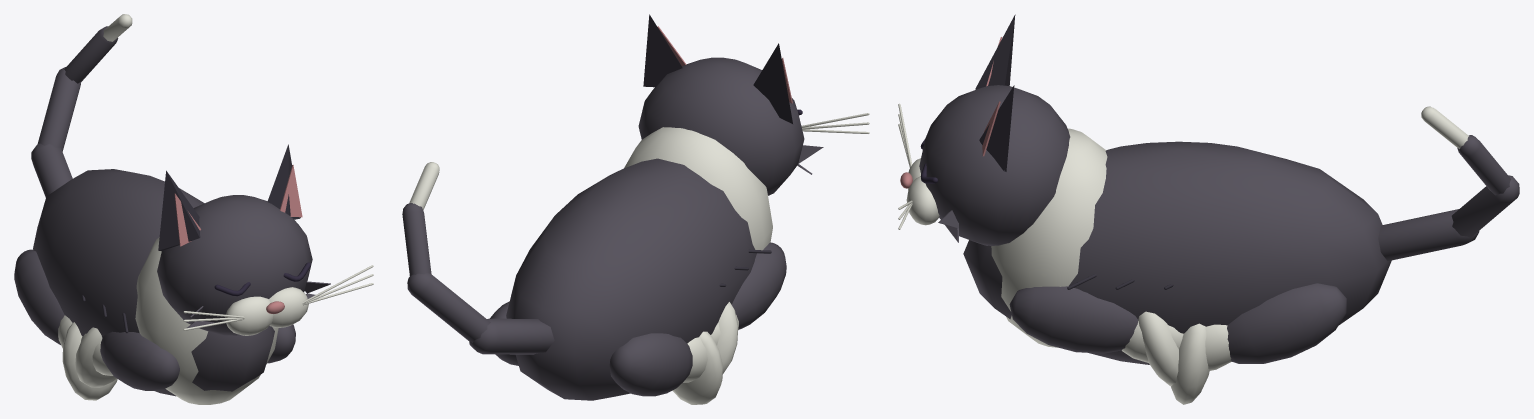
The model's file is cat_sleeping.glb.
The picture shows the model from 3 angles, left to right: view 1: azimuth 30°, elevation 25°; view 2: azimuth 150°, elevation 25°; view 3: azimuth 270°, elevation 25°; orthographic projection. The views are drawn at different scales.
Visible parts, largest first — view 1: Torso, Head, Chest, Upper_leg, Upper_leg.002, Tapered_tail_segment.001, Pointed_ear, Tapered_tail_segment, Muzzle, Paw, Tapered_tail_segment.002, Paw.002 (+7 smaller); view 2: Torso, Head, Chest, Upper_leg.002, Upper_leg, Tapered_tail_segment.001, Tapered_tail_segment, Paw, Tapered_tail_segment.002, Pointed_ear.001, Pointed_ear, Paw.002 (+2 smaller); view 3: Torso, Head, Chest, Upper_leg.003, Upper_leg.001, Tapered_tail_segment, Paw.001, Paw.003, Tapered_tail_segment.001, Tapered_tail_segment.002, Pointed_ear.001, Pointed_ear (+4 smaller).
Boxes of the visible parts, x1,y1,x2,y2 form: Torso: [33, 169, 274, 396]; Head: [157, 195, 312, 335]; Chest: [135, 237, 278, 404]; Upper_leg: [100, 331, 179, 391]; Upper_leg.002: [14, 249, 64, 344]; Tapered_tail_segment.001: [37, 67, 81, 151]; Pointed_ear: [158, 170, 200, 251]; Tapered_tail_segment: [31, 143, 72, 197]; Muzzle: [225, 296, 273, 335]; Paw: [62, 322, 117, 400]; Tapered_tail_segment.002: [64, 26, 118, 83]; Paw.002: [75, 327, 116, 387]; Torso: [506, 158, 756, 400]; Head: [638, 57, 804, 195]; Chest: [624, 127, 772, 250]; Upper_leg.002: [609, 333, 692, 396]; Upper_leg: [732, 242, 786, 329]; Tapered_tail_segment.001: [407, 273, 490, 342]; Tapered_tail_segment: [469, 318, 554, 354]; Paw: [672, 331, 722, 404]; Tapered_tail_segment.002: [402, 203, 431, 276]; Pointed_ear.001: [643, 14, 682, 87]; Pointed_ear: [753, 43, 792, 123]; Paw.002: [717, 302, 738, 374]; Torso: [963, 141, 1391, 364]; Head: [919, 85, 1070, 245]; Chest: [991, 128, 1107, 347]; Upper_leg.003: [1227, 283, 1346, 363]; Upper_leg.001: [1009, 286, 1138, 353]; Tapered_tail_segment: [1378, 209, 1479, 261]; Paw.001: [1170, 323, 1209, 404]; Paw.003: [1138, 311, 1178, 385]; Tapered_tail_segment.001: [1451, 175, 1519, 237]; Tapered_tail_segment.002: [1457, 135, 1510, 195]; Pointed_ear.001: [979, 85, 1014, 171]; Pointed_ear: [975, 14, 1015, 89].
Size of the model in its own units: 0.2819 by 0.4051 by 0.706.
